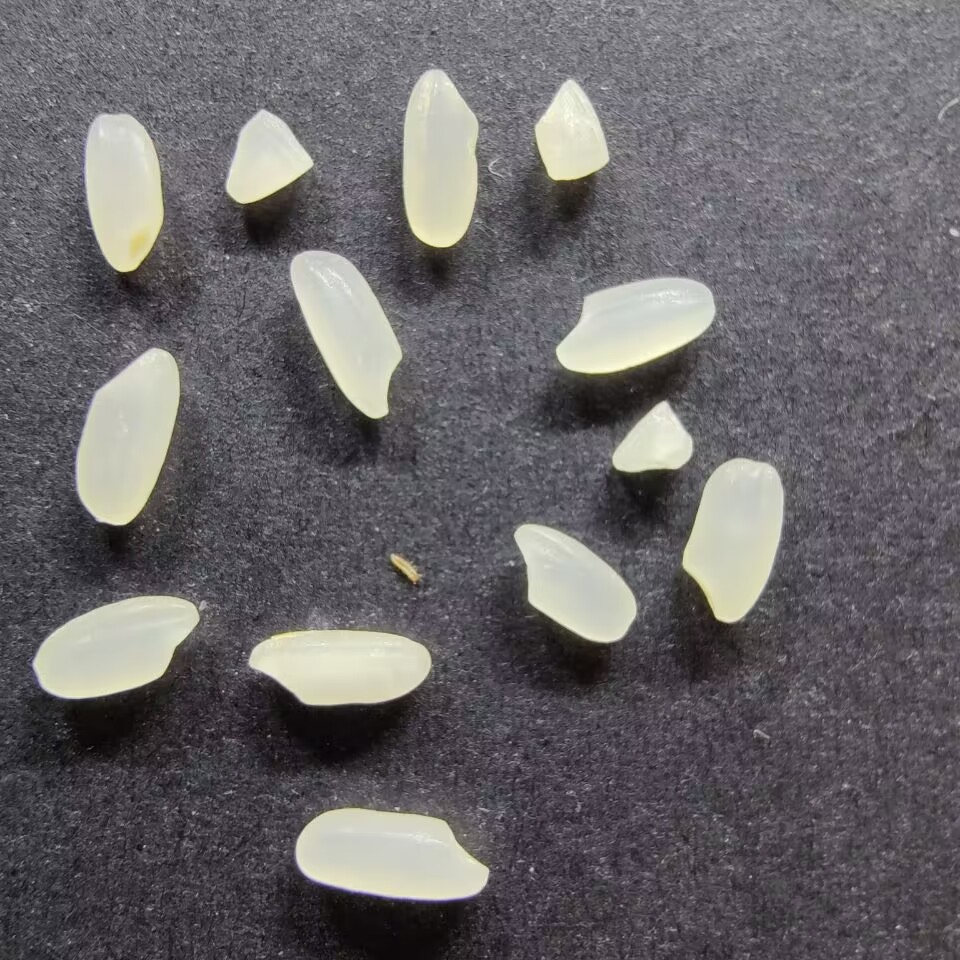broken: (221, 105, 316, 206), (532, 76, 611, 182), (606, 399, 697, 476)
others: (386, 550, 427, 591)
rice: (287, 248, 404, 419), (72, 347, 181, 525), (293, 807, 491, 902), (30, 593, 201, 700), (679, 457, 784, 623), (554, 276, 716, 375), (510, 522, 640, 644), (245, 628, 432, 706), (399, 67, 479, 247), (81, 111, 165, 274)
